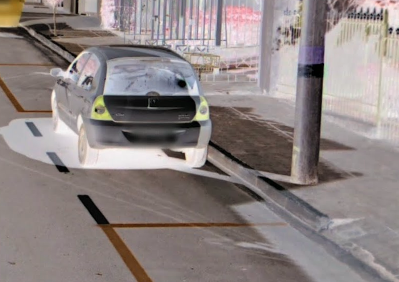car: (46, 41, 214, 173)
